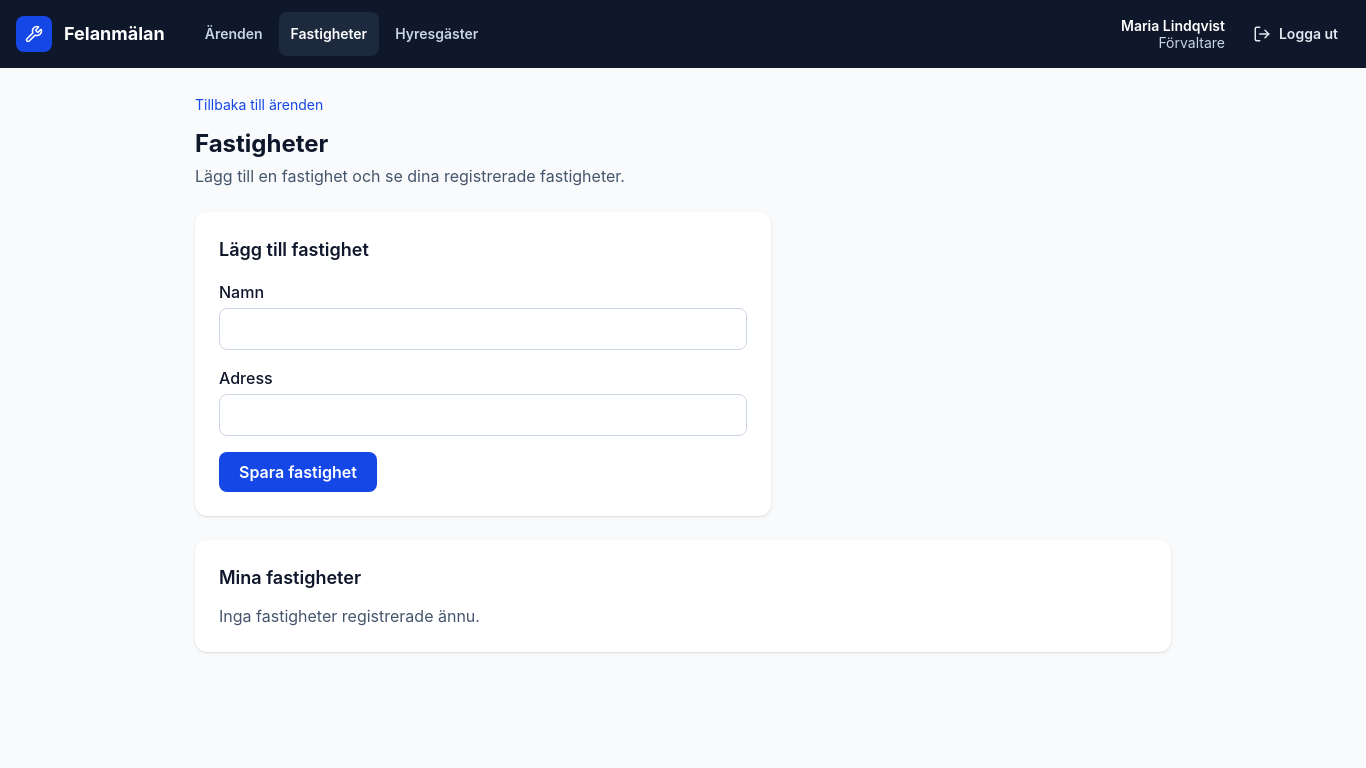
Test: PropertiesPage › en ny fastighet syns direkt i listan
Expected: the text "Inga fastigheter registrerade ännu." is shown, [219, 606, 480, 626]
Type "Tallen 3" into the field labelled "Namn" at (483, 329), box [219, 308, 747, 350]
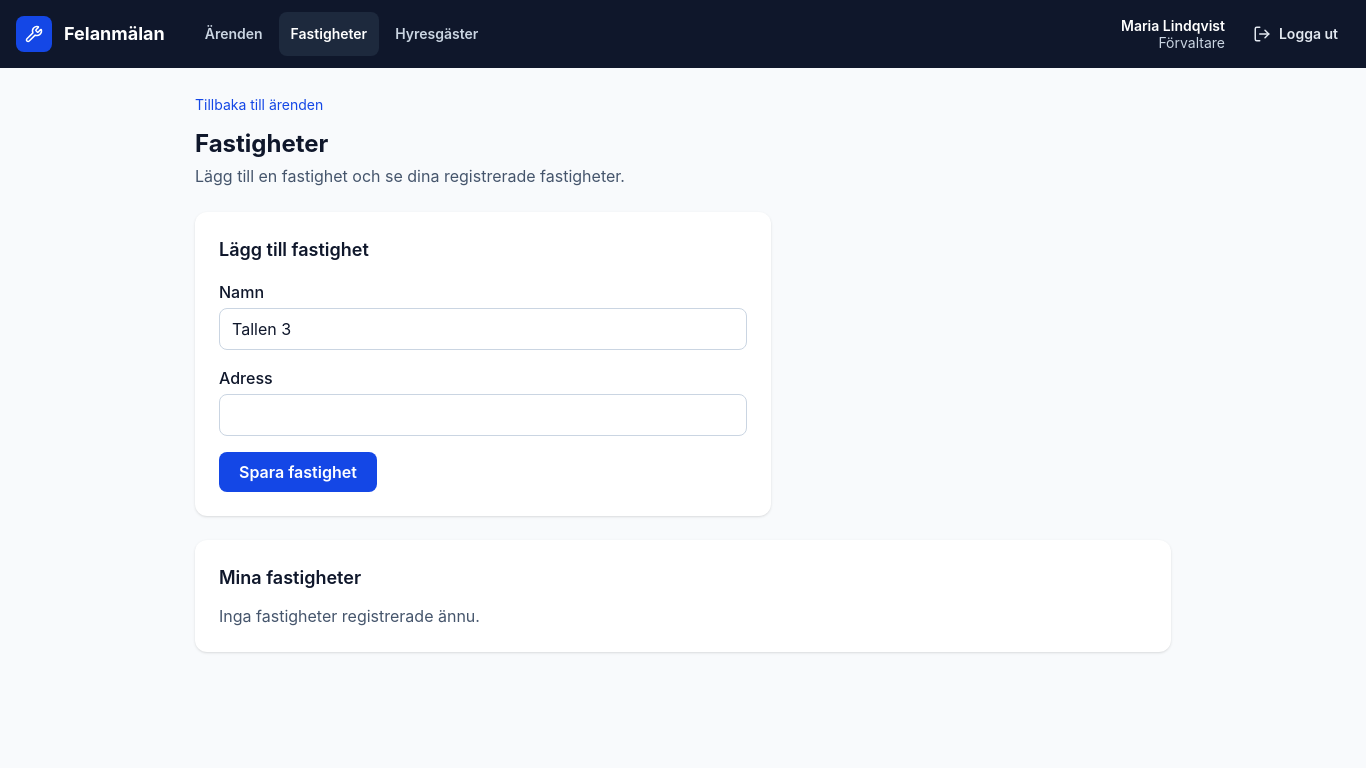
Type "Tallgatan 3" into the field labelled "Adress" at (483, 415), box [219, 394, 747, 436]
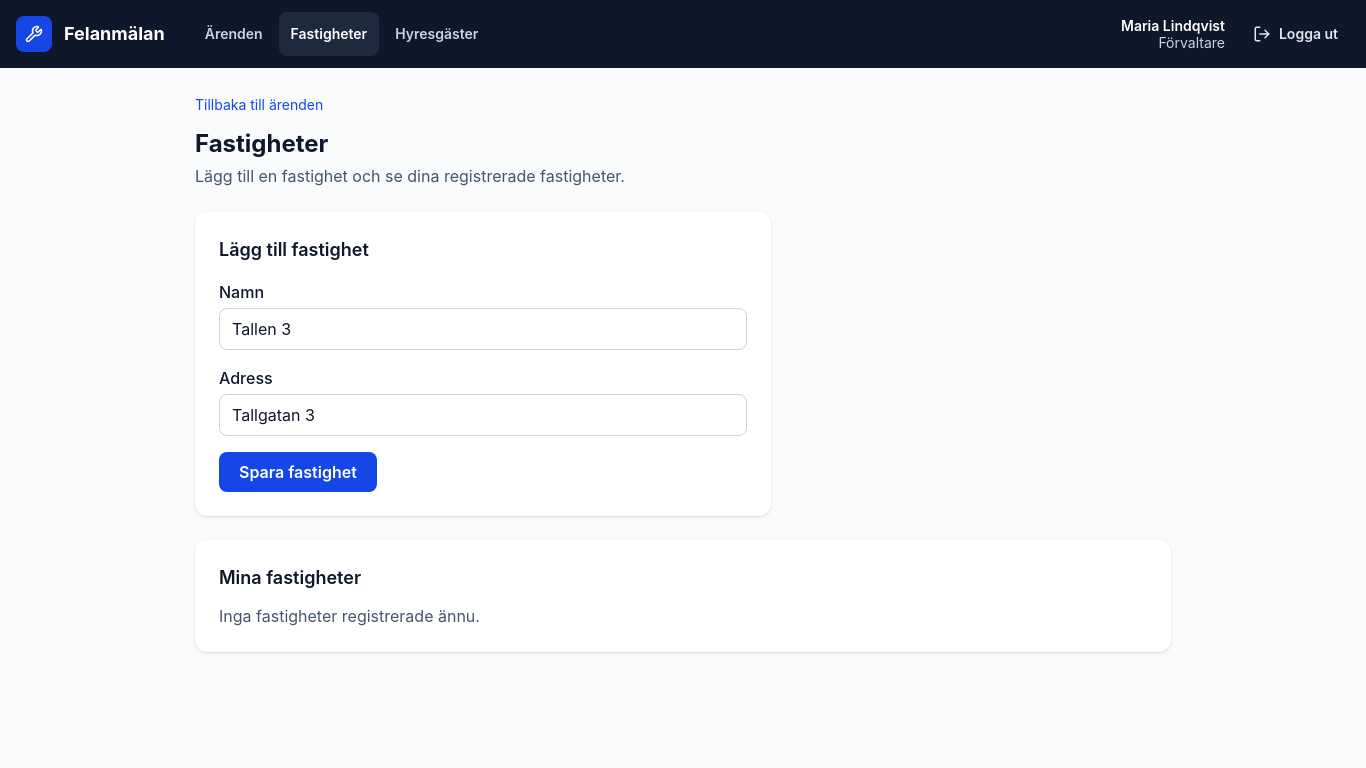
Click the button "Spara fastighet" at (298, 472), box [219, 452, 377, 492]
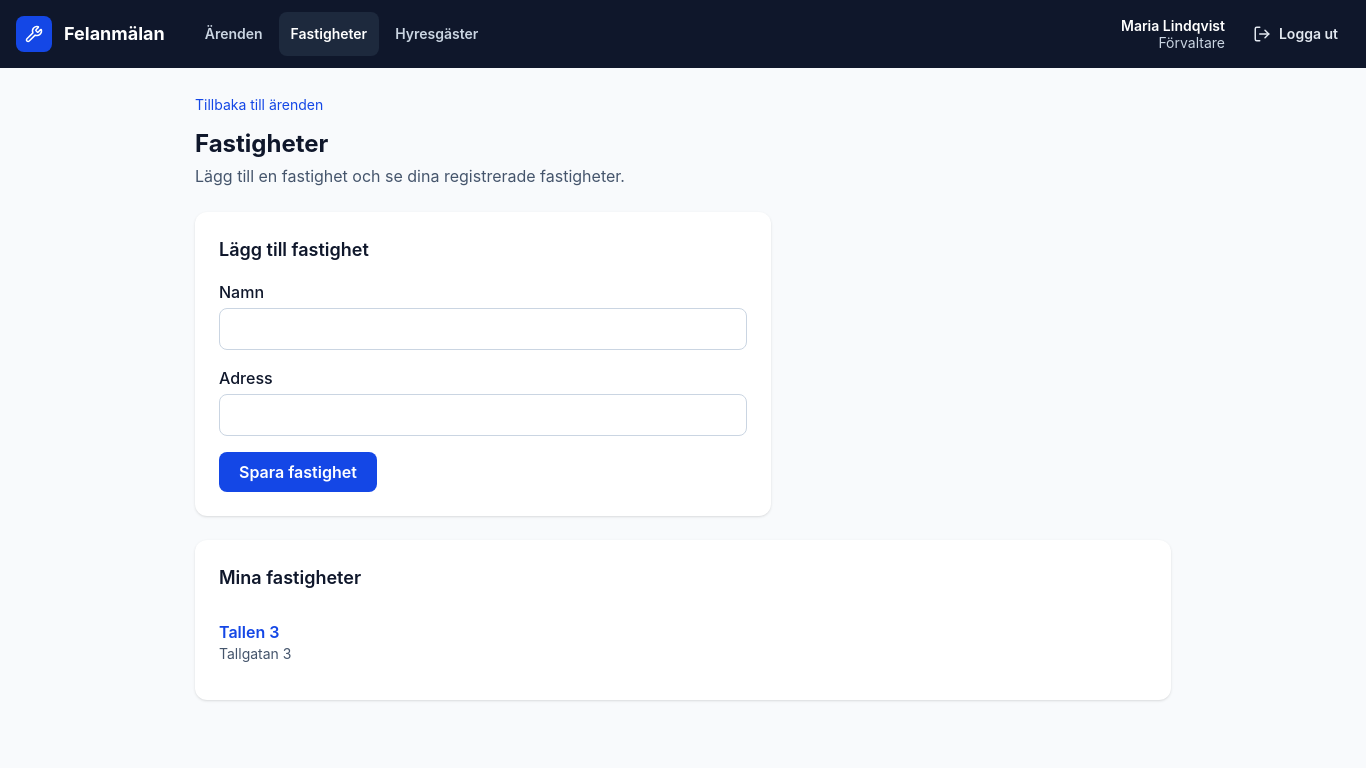
Expected: the link "Tallen 3" is shown, [219, 622, 279, 642]
Expected: the text "Tallgatan 3" is shown, [219, 645, 292, 662]
Expected: the field labelled "Namn" is empty, [219, 308, 747, 350]
